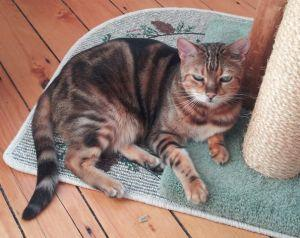bengal: (170, 28, 250, 113)
